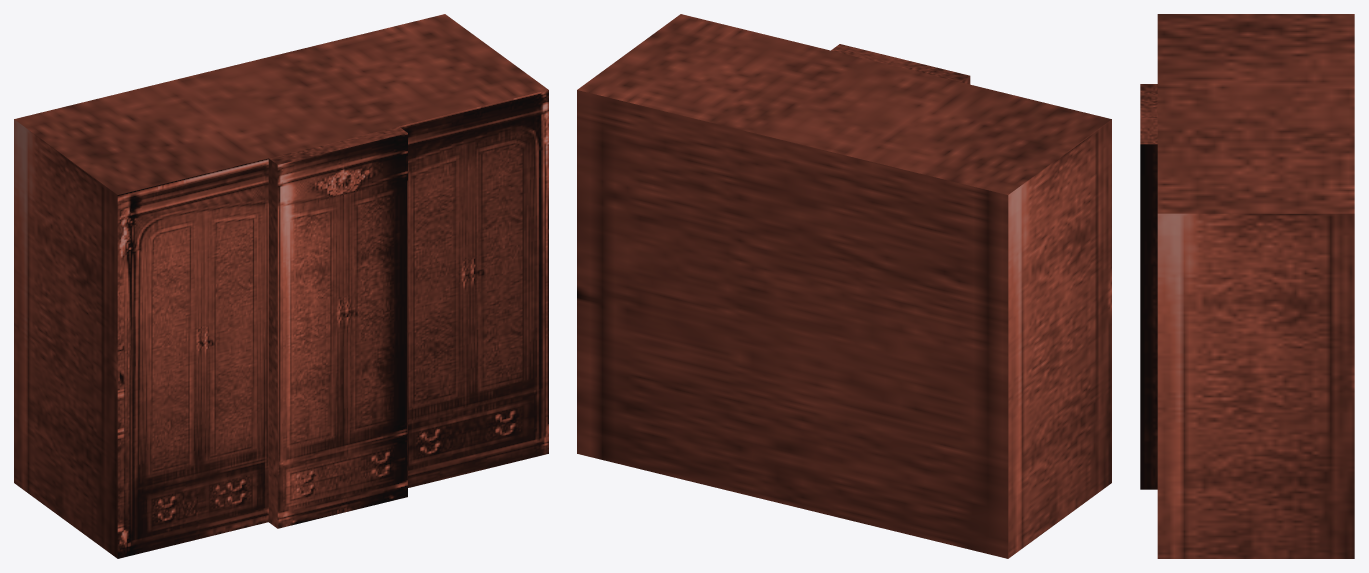
The model's file is wardrobe_1.fbx.
The picture shows the model from 3 angles, left to right: view 1: azimuth 30°, elevation 25°; view 2: azimuth 150°, elevation 25°; view 3: azimuth 270°, elevation 25°; orthographic projection. The views are drawn at different scales.
Parts seen in each view (by area): view 1: Cube; view 2: Cube; view 3: Cube.
Boxes of the visible parts, x1,y1,x2,y2 form: Cube: [14, 14, 548, 558]; Cube: [577, 14, 1111, 558]; Cube: [1140, 14, 1354, 558].
Size of the model in its own units: 200 by 161 by 90.69.
